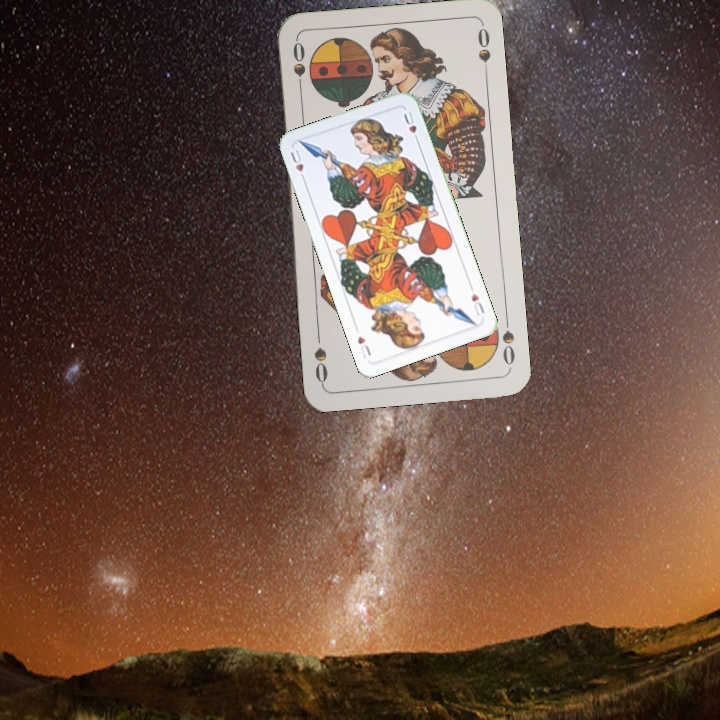HU: (286, 145, 308, 184), (466, 282, 487, 318)
SO: (288, 37, 308, 97), (498, 311, 517, 370)
